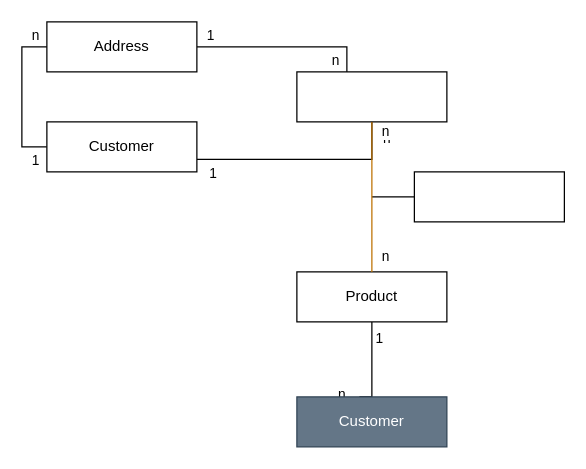
Some shapes in this 586 by 469 pixel diagram are drawn without their labels. The box of each missing label's shape, as (x1, y1, x2, y2) in pixels:
Order: (296, 71, 447, 122)
OrderProduct: (413, 171, 564, 222)
